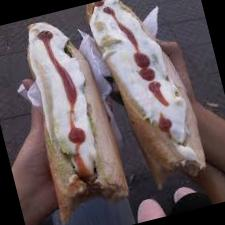Completos: (7, 7, 132, 220), (79, 0, 210, 194)
